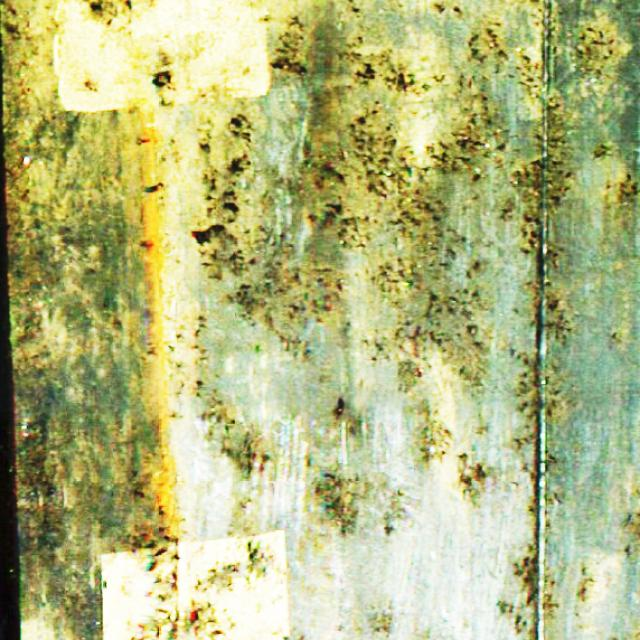Corrosion: (140, 185, 177, 430), (152, 445, 185, 542), (133, 105, 161, 173)
